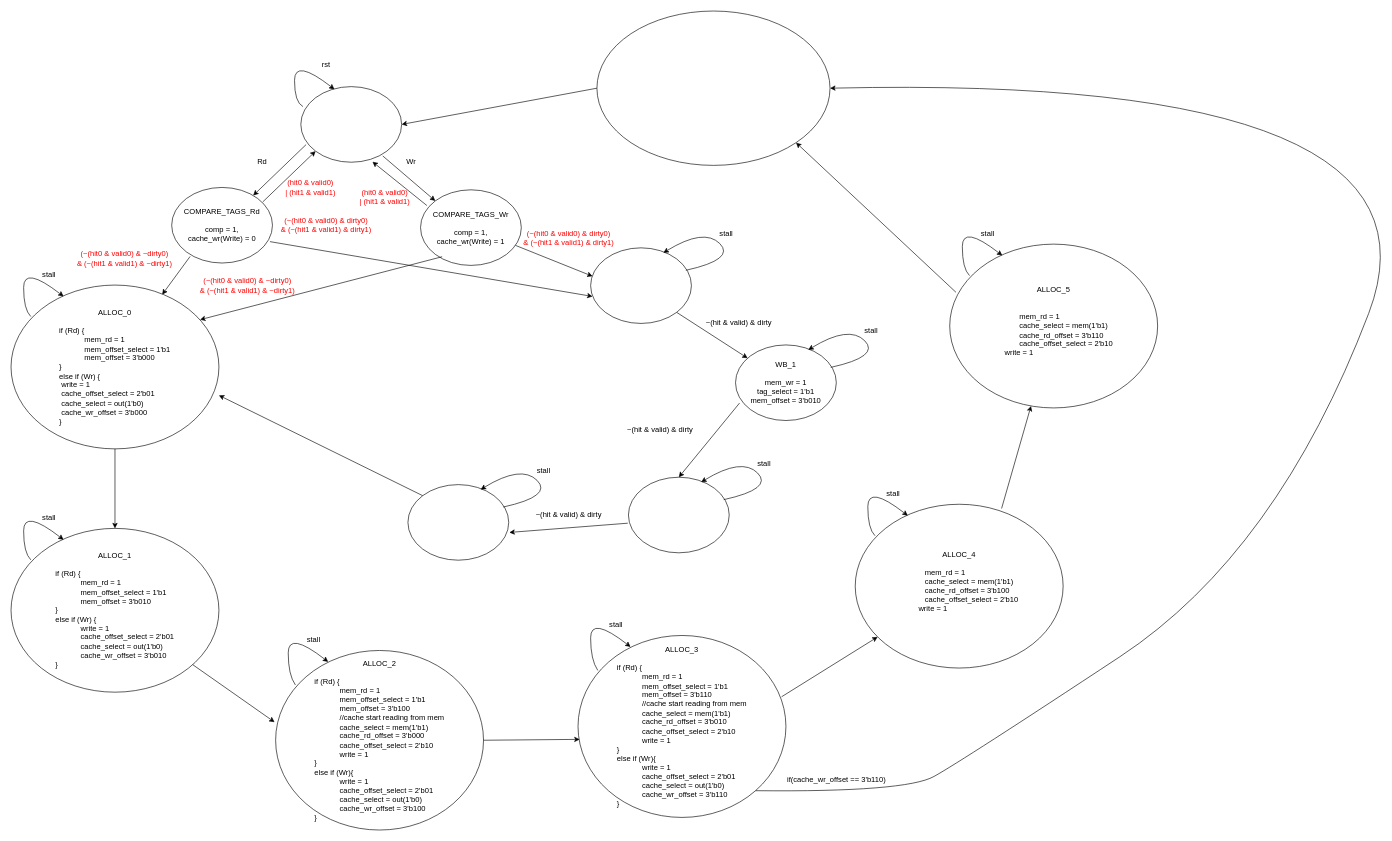
The diagram is 1392 pixels wide and 841 high, and some of its shapes have lost their labels. The shapes that lost their labels are listed below. From the top down, each one's centre as x and y in pixels, then its label:
At [713,87]: "DONE valid_in = 1 done = 1 cache_hit = 1 stall_out = 0".
At [351,124]: "IDLE".
At [640,285]: "WB_0 mem_wr = 1 tag_select = 1'b1 mem_offset = 3'b000".
At [458,522]: "WB_3 mem_wr = 1 tag_select = 1'b1 mem_offset = 3'b110".
At [678,515]: "WB_2 mem_wr = 1 tag_select = 1'b1 mem_offset = 3'b100".
